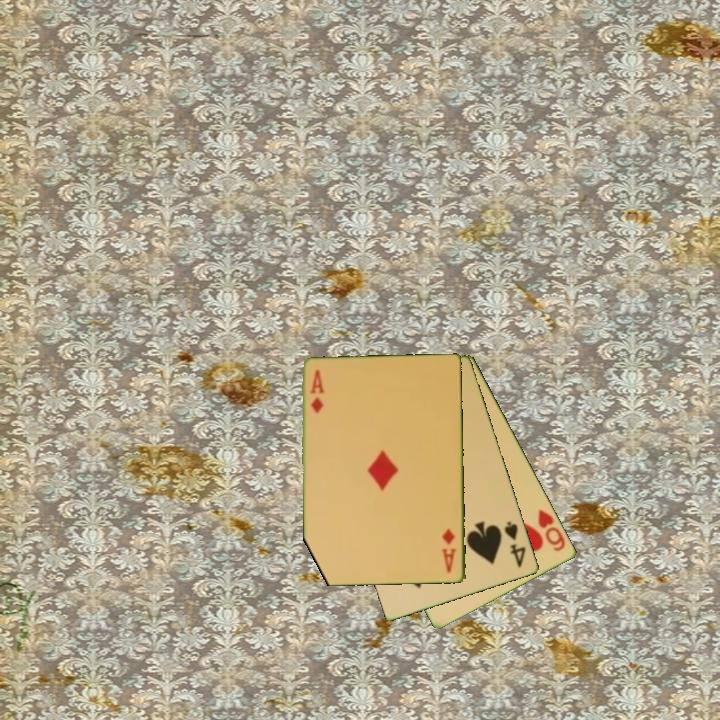4s: (501, 518, 529, 571)
6h: (535, 506, 569, 554)
Ad: (439, 525, 459, 576), (307, 367, 327, 416)
